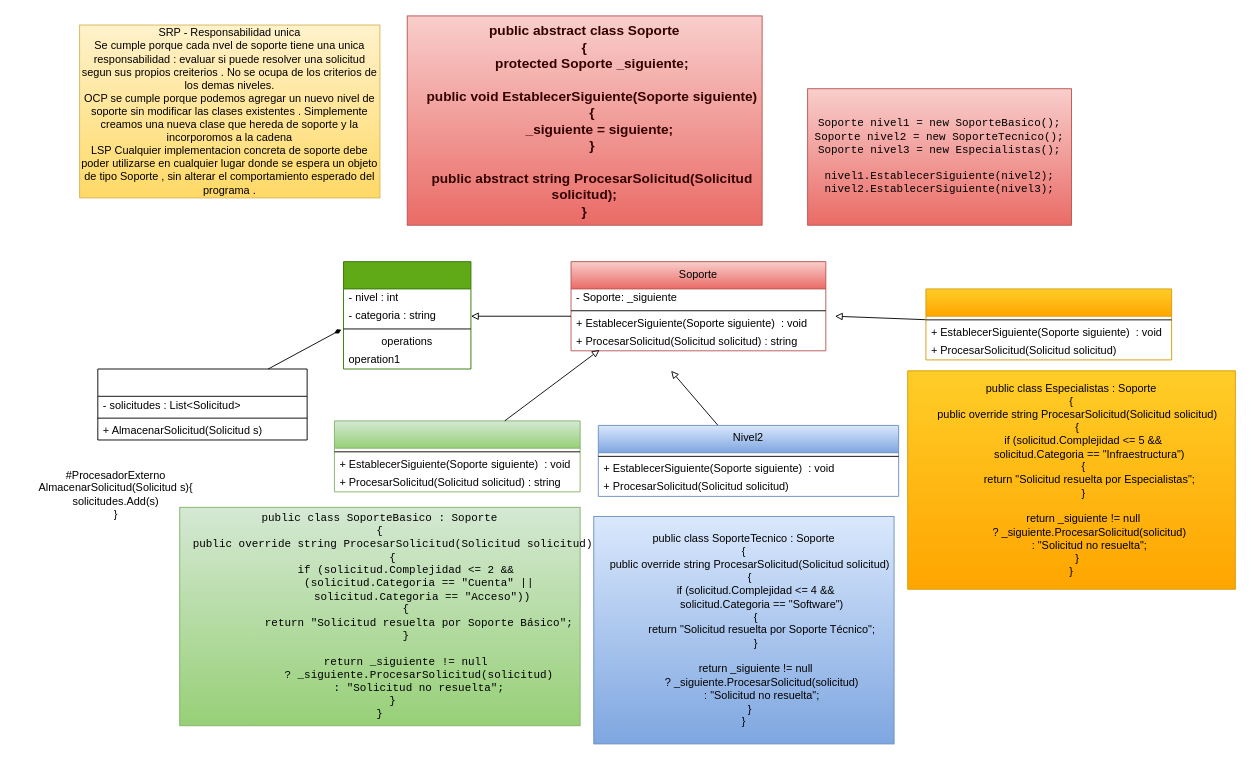
This 1251x760 diagram has some shape labels left out. The shapes that lost their labels are listed below. From the top down, each one's box as (x1, y1, x2, y2) in pixels, then its label:
(343, 261, 471, 369): Solicitud
(925, 288, 1172, 360): Nivel3
(97, 368, 307, 440): ProcesadorExterno
(334, 420, 580, 492): Nivel1
